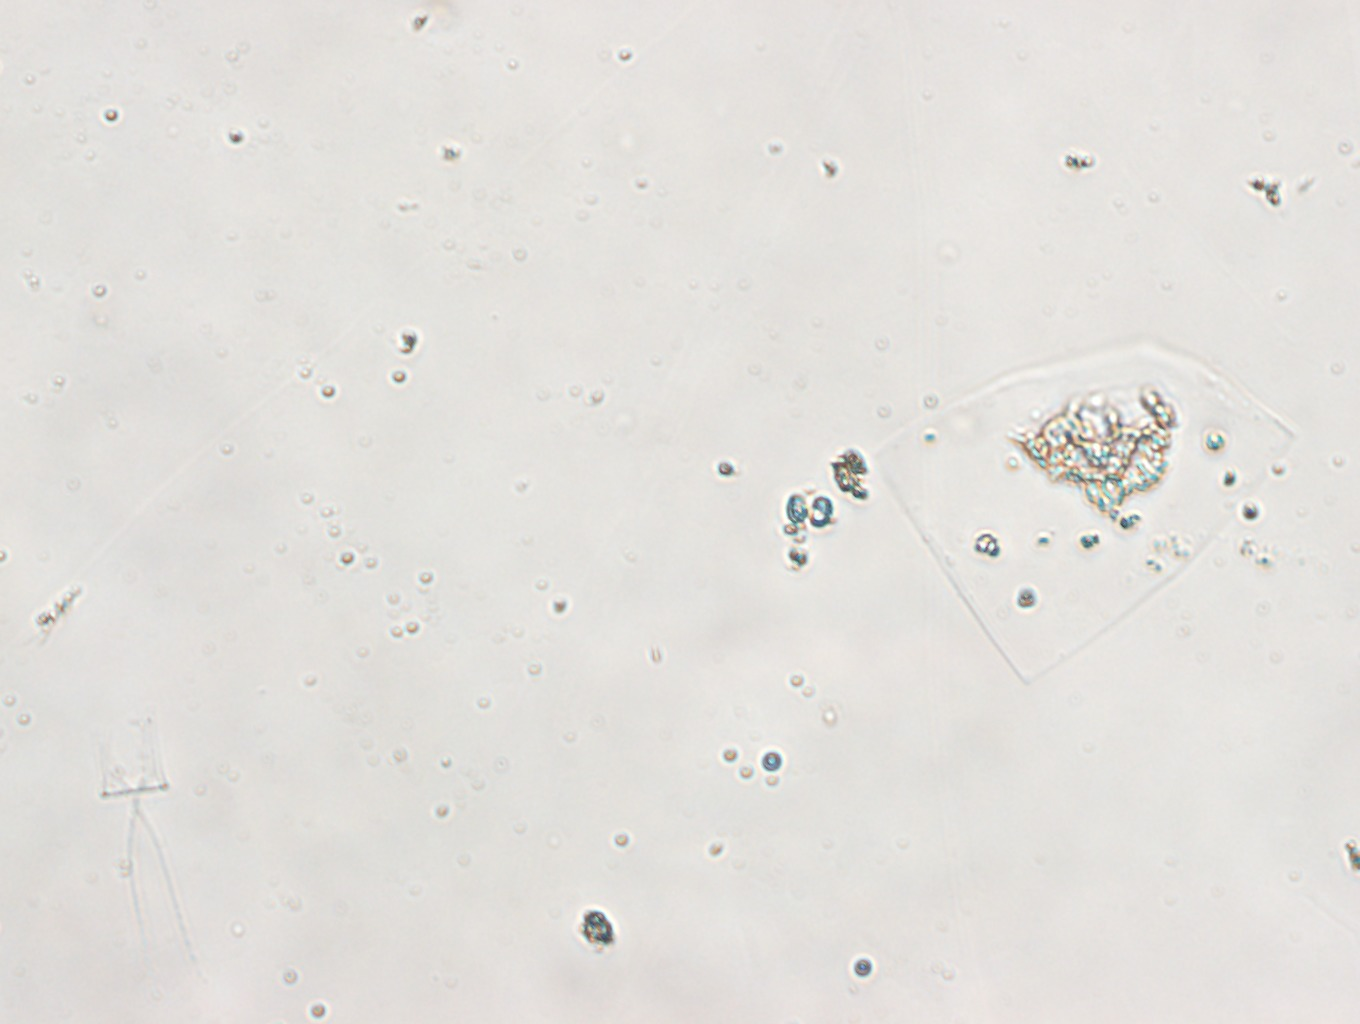helicotheca: (862, 325, 1298, 685)
